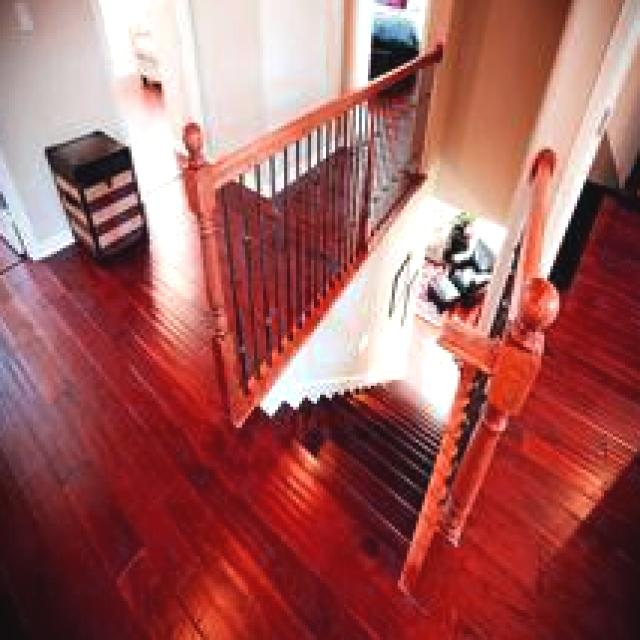downstair: (261, 342, 459, 551)
